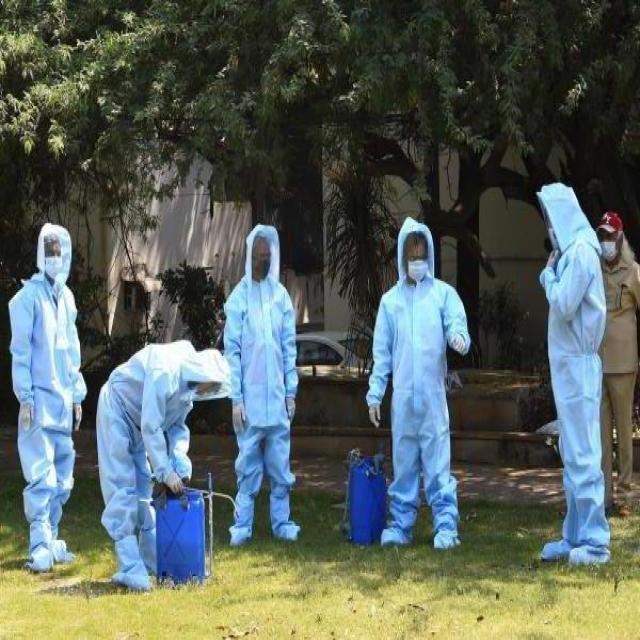Coverall: (481, 192, 640, 585), (358, 173, 497, 579), (0, 183, 127, 582), (87, 306, 236, 595), (203, 187, 308, 576)
Gloves: (217, 371, 262, 456), (360, 343, 394, 448), (270, 378, 310, 446), (153, 456, 202, 504), (535, 247, 573, 301), (16, 369, 41, 451), (434, 316, 469, 366), (58, 400, 109, 429)
Mask: (399, 249, 436, 291), (593, 237, 629, 267), (36, 247, 66, 281)
